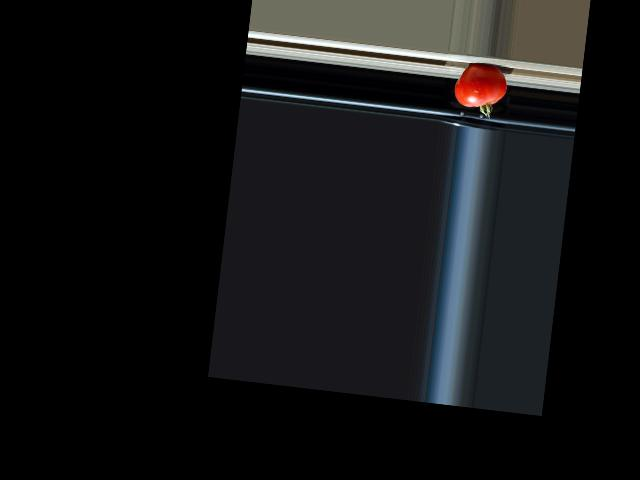tomato: (452, 62, 509, 119)
